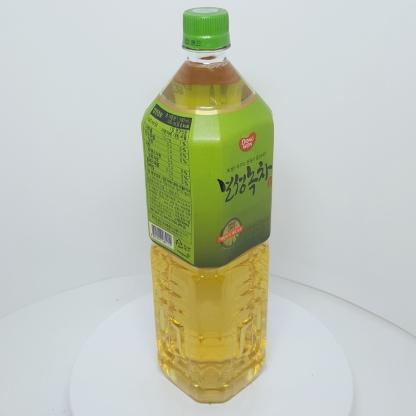------1500ML: (141, 7, 274, 403)
